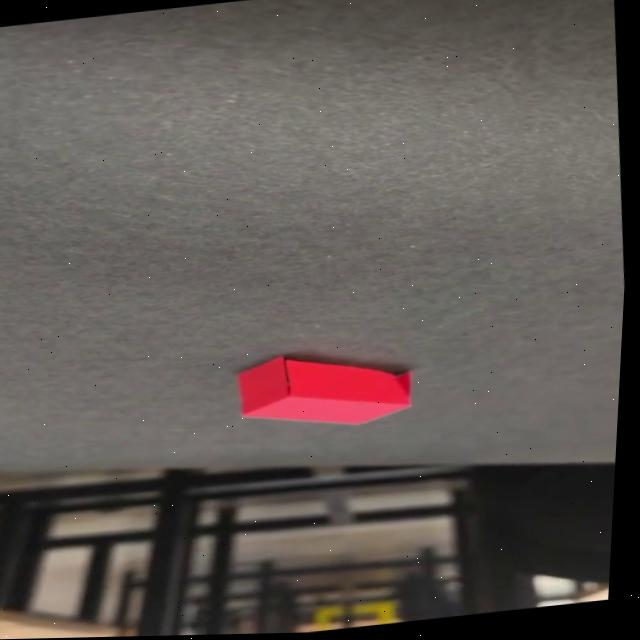red block: (230, 342, 417, 439)
